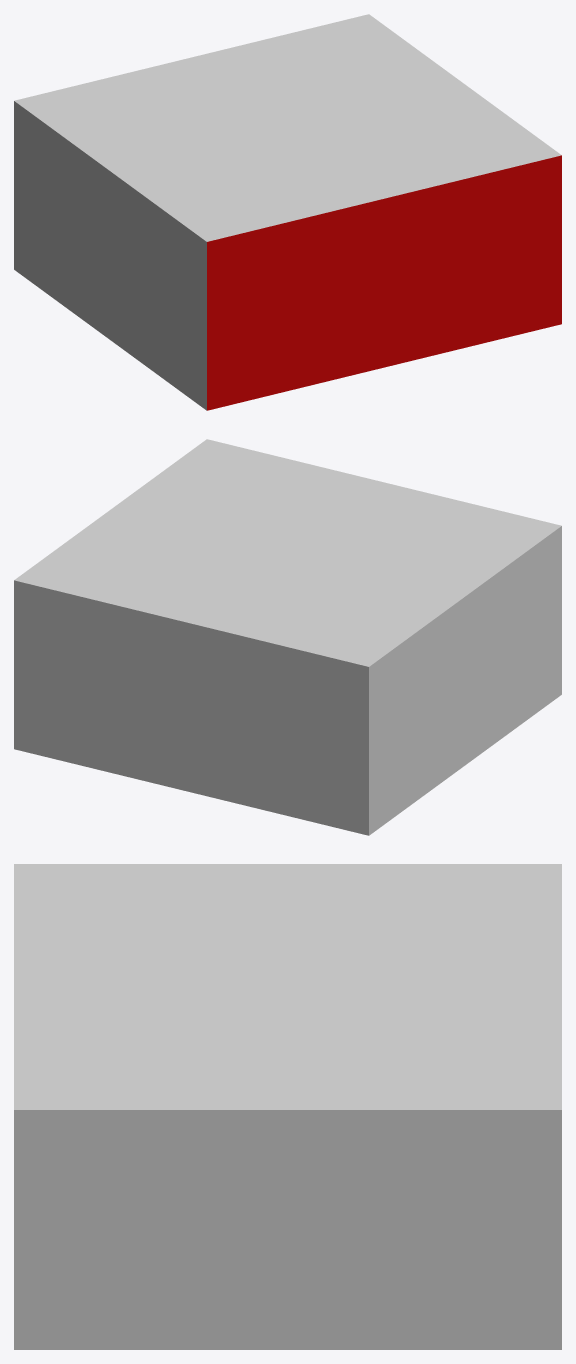
Rendered from rec.fbx.
3 views of the same model, one above another, from view 1: azimuth 30°, elevation 25°; view 2: azimuth 150°, elevation 25°; view 3: azimuth 270°, elevation 25° (orthographic). The views are drawn at different scales.
Visible parts, largest first — view 1: Model; view 2: Model; view 3: Model.
Part boxes in pixels (x1,y1,x2,y2): Model: [14, 14, 561, 410]; Model: [14, 439, 561, 835]; Model: [14, 864, 561, 1349].
Size of the model in its own units: 191 by 87 by 180.
